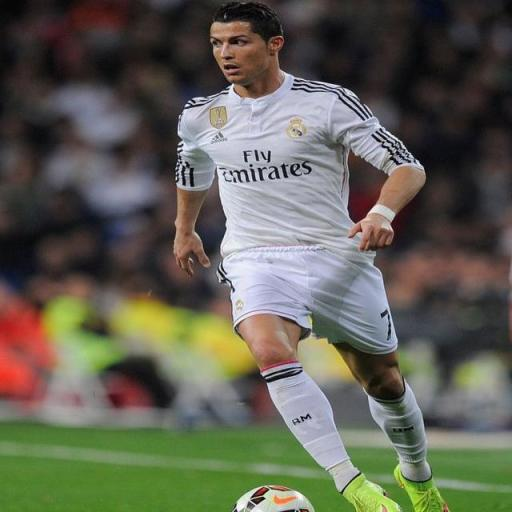Adidas: (208, 131, 230, 147)
Emirates: (215, 146, 313, 185)
